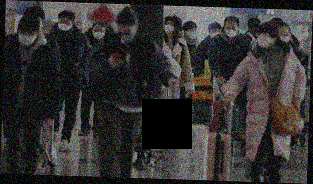with_mask: (17, 29, 37, 47), (117, 27, 136, 45), (254, 31, 272, 48), (57, 18, 72, 32), (278, 30, 293, 44), (163, 20, 177, 34), (92, 27, 107, 40), (225, 24, 237, 38), (187, 26, 198, 40), (209, 27, 222, 38)
